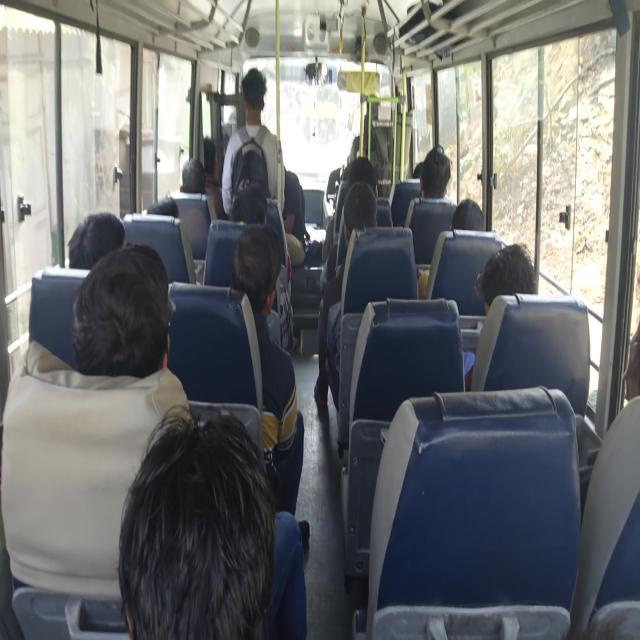person: (119, 412, 293, 640), (70, 264, 171, 386), (475, 235, 555, 362), (591, 296, 640, 482), (272, 145, 316, 297), (342, 152, 393, 228), (227, 224, 276, 293), (66, 215, 126, 270), (441, 192, 491, 254), (344, 178, 388, 247), (238, 73, 270, 154), (179, 144, 217, 204), (145, 193, 188, 245), (419, 148, 452, 207), (227, 192, 266, 235), (242, 160, 272, 198), (196, 136, 218, 171), (414, 161, 436, 186)
